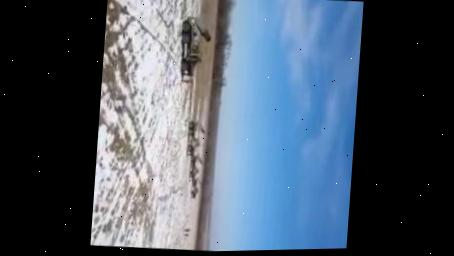person: (182, 226, 190, 231), (183, 231, 190, 236)
rszo: (179, 14, 213, 76), (187, 119, 206, 155), (188, 175, 204, 199), (188, 153, 204, 176)
